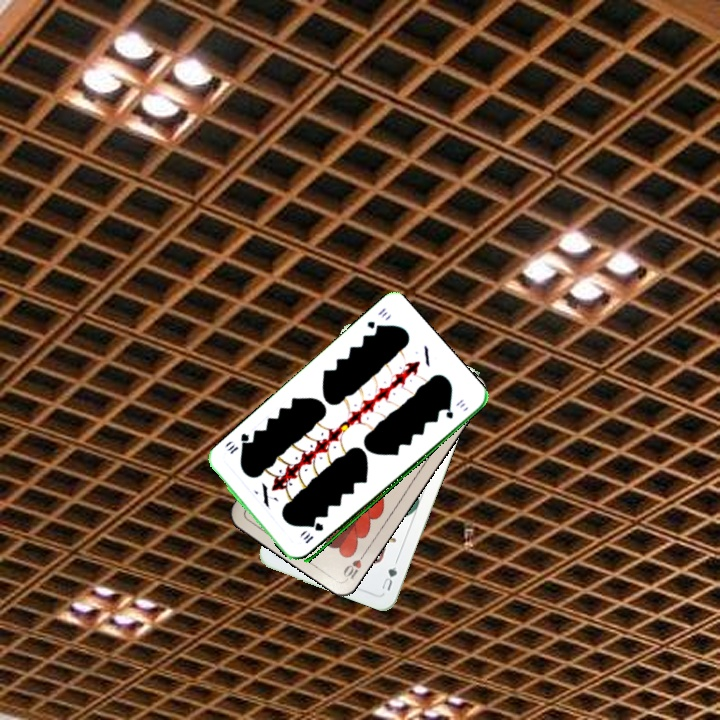G10: (363, 304, 390, 334), (301, 519, 326, 546)
GU: (377, 556, 400, 593)
H10: (339, 546, 370, 582)
